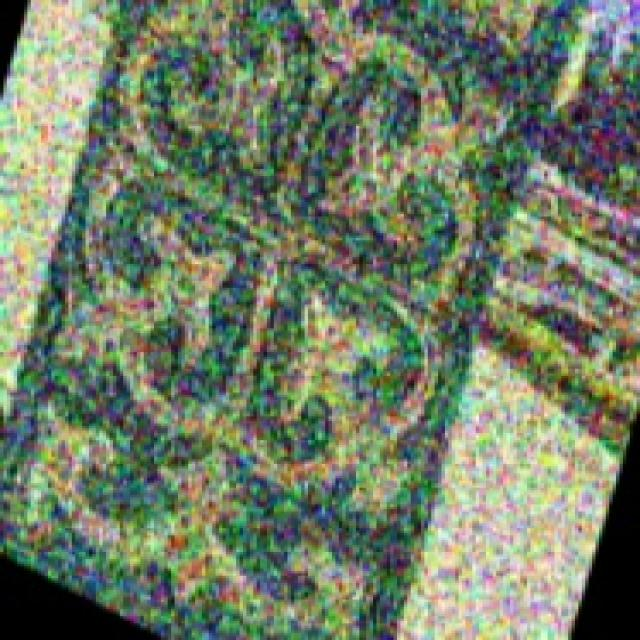Unity: (6, 0, 541, 563)
